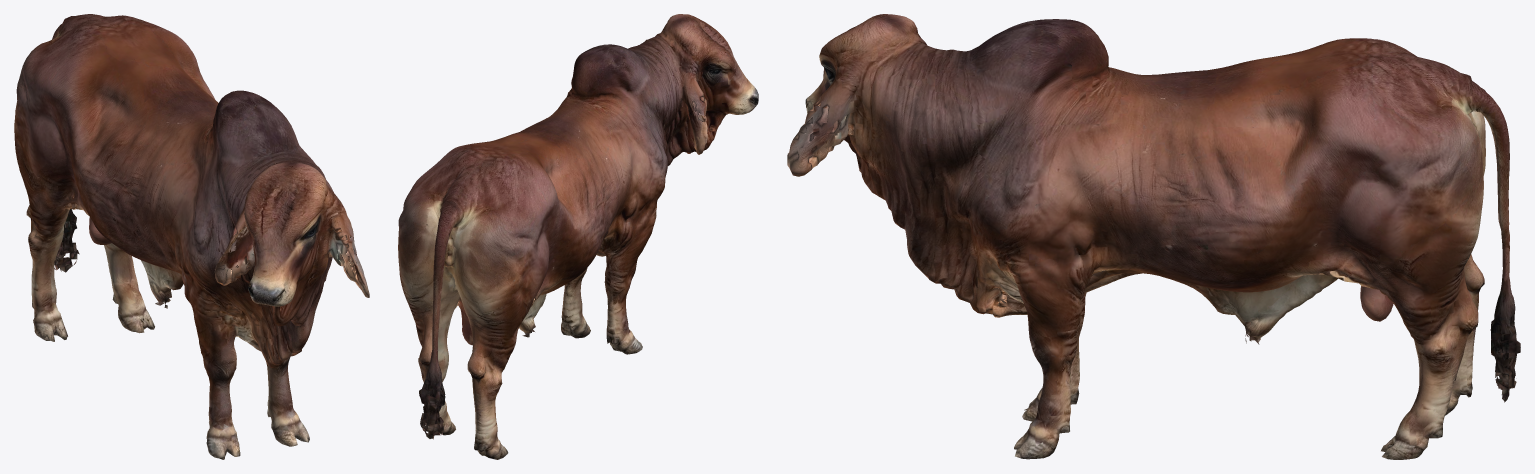
Rendered from animal_bull.glb.
3 renders of one model, left to right at view 1: azimuth 30°, elevation 25°; view 2: azimuth 150°, elevation 25°; view 3: azimuth 270°, elevation 25°, orthographic. The views are drawn at different scales.
Visible parts, largest first — view 1: animal_bull.glb; view 2: animal_bull.glb; view 3: animal_bull.glb.
Boxes of the visible parts, x1,y1,x2,y2 form: animal_bull.glb: [14, 14, 369, 459]; animal_bull.glb: [398, 14, 758, 459]; animal_bull.glb: [787, 14, 1520, 459].
Bounding box in the file's own units: 0.8626 × 1.66 × 2.7.
1 material, 1 textured.
